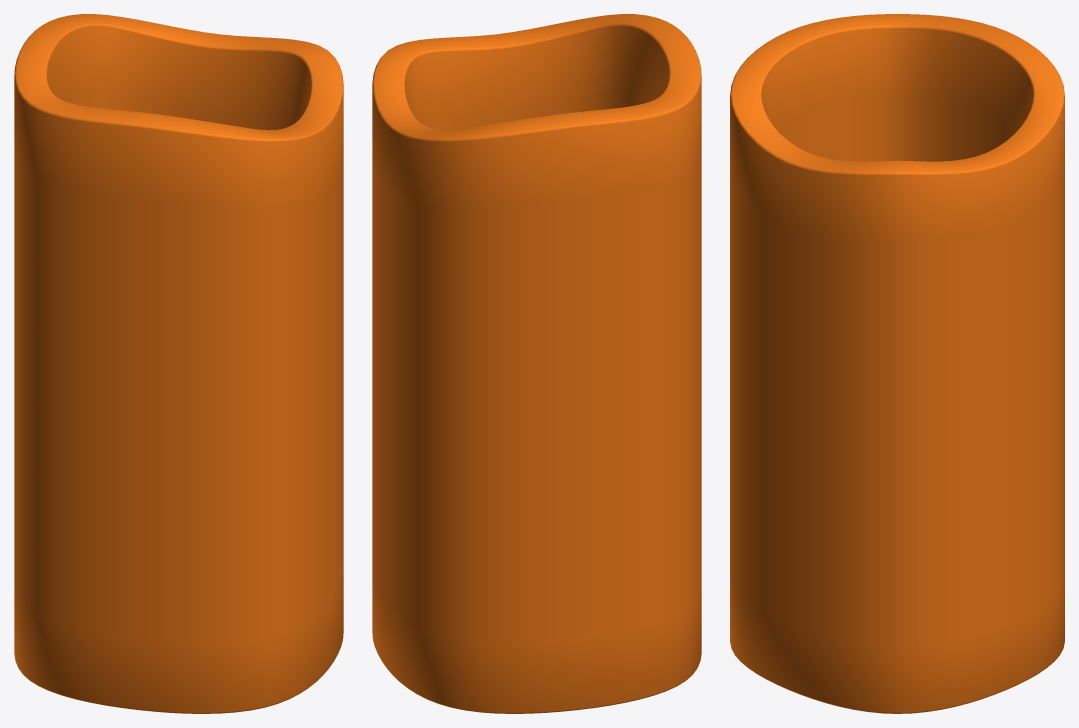
The model's file is ambigous_cylinder.glb.
The picture shows the model from 3 angles, left to right: view 1: azimuth 30°, elevation 25°; view 2: azimuth 150°, elevation 25°; view 3: azimuth 270°, elevation 25°; orthographic projection. The views are drawn at different scales.
Visible parts, largest first — view 1: Object_2; view 2: Object_2; view 3: Object_2.
Boxes of the visible parts, <box> form: Object_2: <box>14,14,343,713</box>; Object_2: <box>372,14,701,713</box>; Object_2: <box>730,14,1064,713</box>.
Size of the model in its own units: 43.17 by 80.71 by 43.17.
